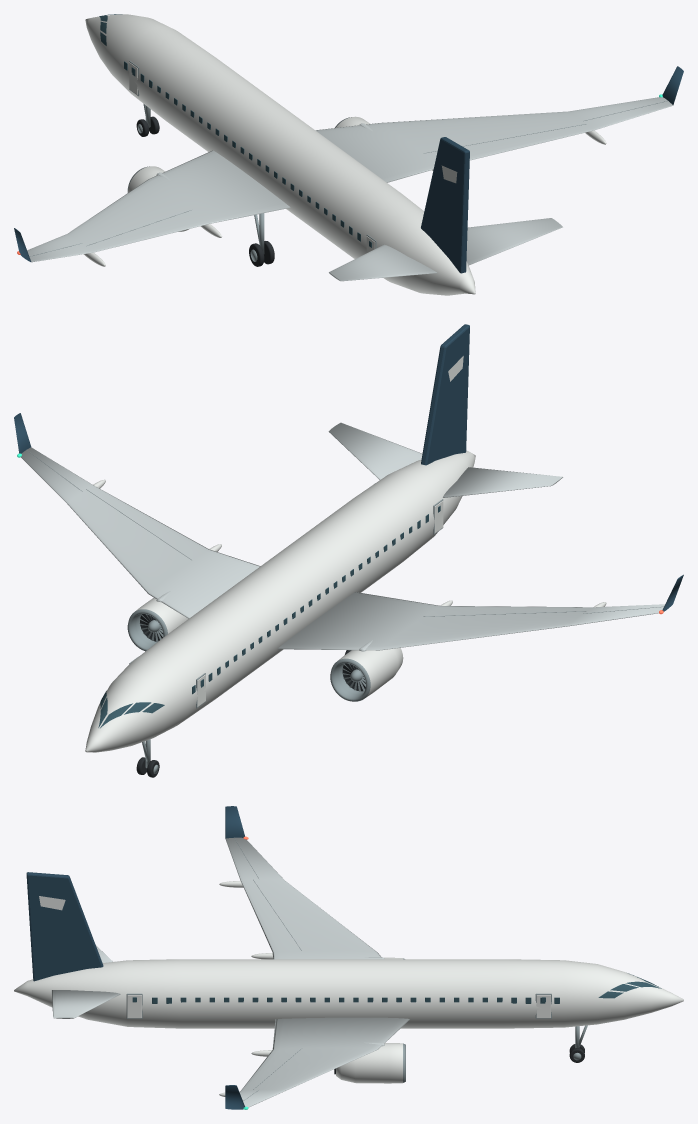
File: aircraft-narrowbody.glb
The picture shows the model from 3 angles, top to bottom: view 1: azimuth 30°, elevation 25°; view 2: azimuth 150°, elevation 25°; view 3: azimuth 270°, elevation 25°; orthographic projection. The views are drawn at different scales.
Parts seen in each view (by area): view 1: Aircraft.narrowbody.Airframe, Aircraft.narrowbody.Wing, Aircraft.narrowbody.Livery, Aircraft.narrowbody.Glass, Aircraft.narrowbody.Airframe.001, Aircraft.narrowbody.Metal, Gear.Left.Tyres; view 2: Aircraft.narrowbody.Airframe, Aircraft.narrowbody.Wing, Aircraft.narrowbody.Livery, Aircraft.narrowbody.Airframe.001, Aircraft.narrowbody.Glass, Aircraft.narrowbody.Metal; view 3: Aircraft.narrowbody.Airframe, Aircraft.narrowbody.Wing, Aircraft.narrowbody.Livery, Aircraft.narrowbody.Airframe.001, Aircraft.narrowbody.Glass.
Boxes of the visible parts, bbox=[...] form: Aircraft.narrowbody.Airframe: bbox=[84, 14, 606, 295]; Aircraft.narrowbody.Wing: bbox=[27, 97, 672, 281]; Aircraft.narrowbody.Livery: bbox=[14, 66, 683, 273]; Aircraft.narrowbody.Glass: bbox=[99, 14, 371, 247]; Aircraft.narrowbody.Airframe.001: bbox=[127, 116, 370, 231]; Aircraft.narrowbody.Metal: bbox=[29, 61, 667, 256]; Gear.Left.Tyres: bbox=[249, 241, 274, 266]; Aircraft.narrowbody.Airframe: bbox=[85, 356, 606, 752]; Aircraft.narrowbody.Wing: bbox=[21, 422, 664, 651]; Aircraft.narrowbody.Livery: bbox=[14, 324, 683, 611]; Aircraft.narrowbody.Airframe.001: bbox=[127, 598, 403, 701]; Aircraft.narrowbody.Glass: bbox=[98, 505, 440, 728]; Aircraft.narrowbody.Metal: bbox=[27, 450, 663, 708]; Aircraft.narrowbody.Airframe: bbox=[14, 881, 683, 1096]; Aircraft.narrowbody.Wing: bbox=[51, 837, 409, 1107]; Aircraft.narrowbody.Livery: bbox=[26, 806, 244, 1109]; Aircraft.narrowbody.Airframe.001: bbox=[336, 957, 405, 1083]; Aircraft.narrowbody.Glass: bbox=[132, 973, 661, 1003].
Size of the model in its own units: 37 by 11.59 by 37.56.
